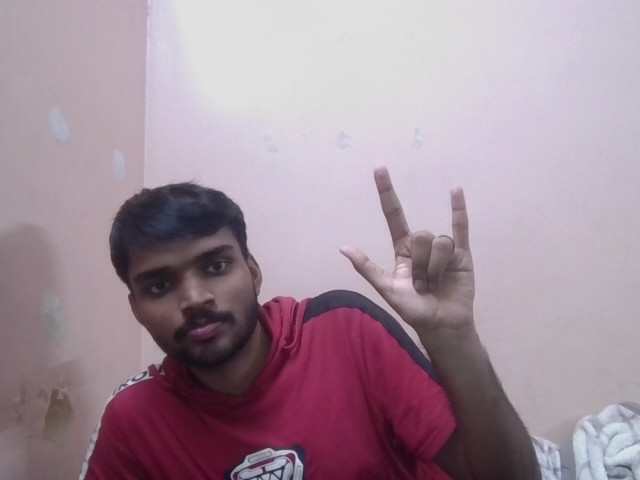I Love You: (341, 160, 476, 328)
